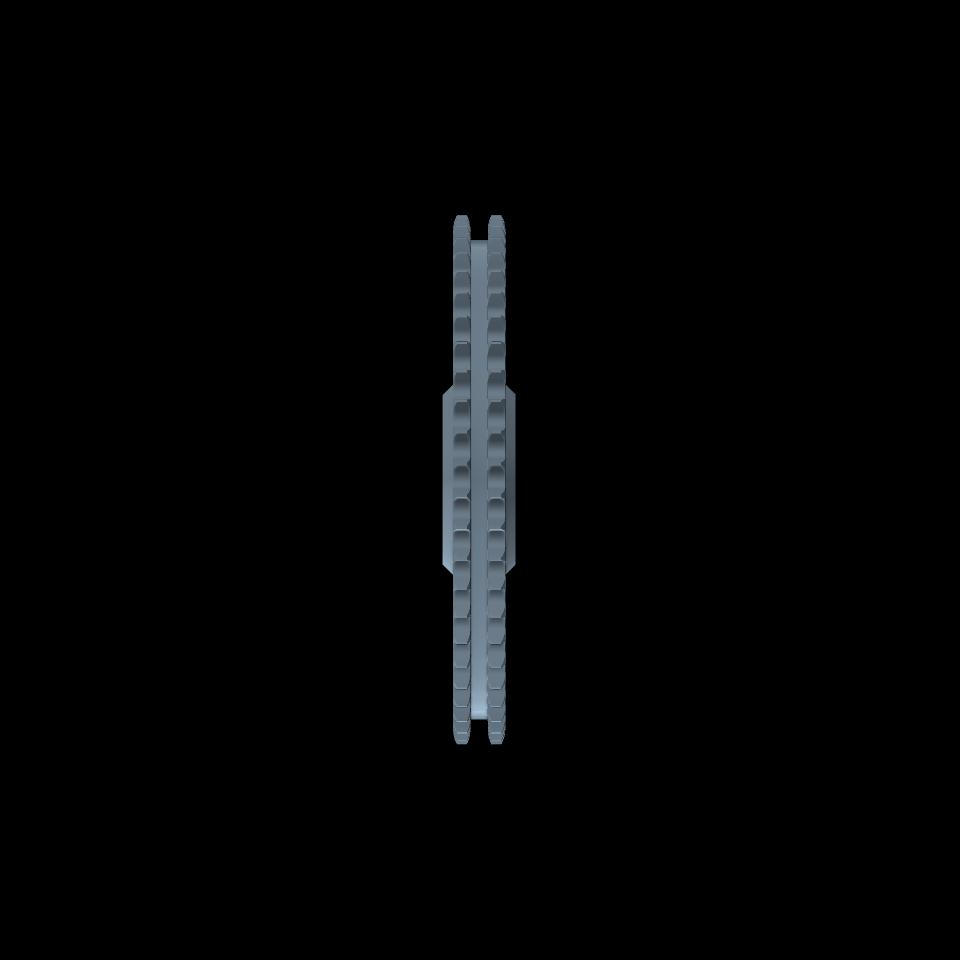Straight: (457, 214, 468, 743), (492, 213, 502, 742)
